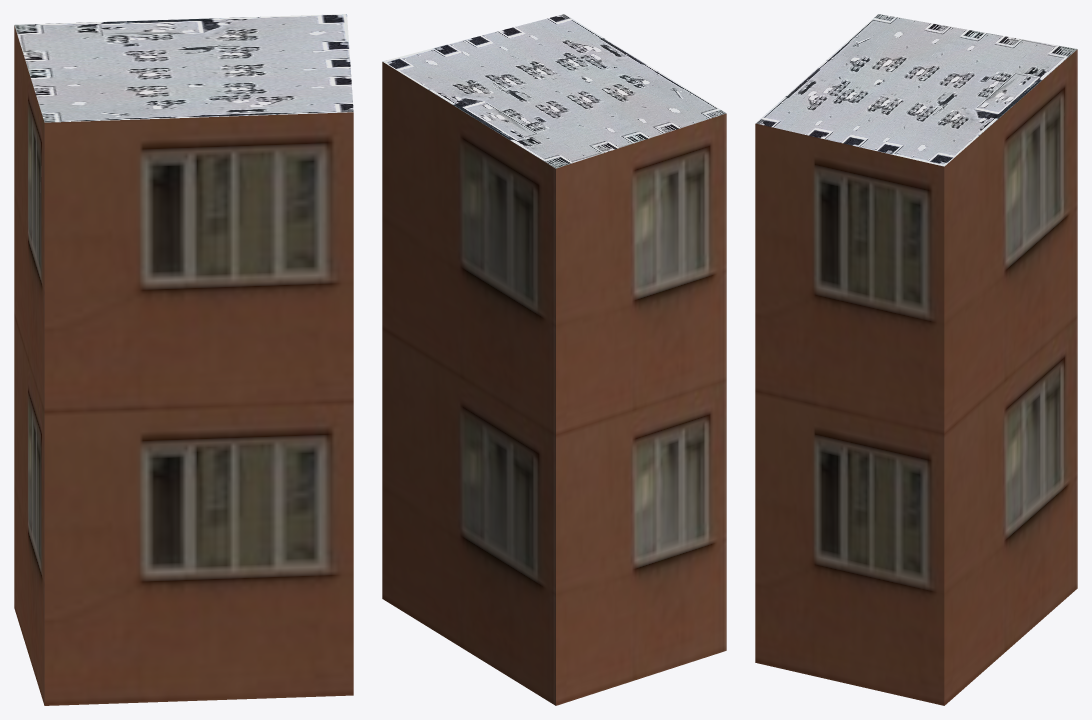
File: ResTex__3099.fbx
3 renders of one model, left to right at view 1: azimuth 30°, elevation 25°; view 2: azimuth 150°, elevation 25°; view 3: azimuth 270°, elevation 25°, orthographic. The views are drawn at different scales.
Parts seen in each view (by area): view 1: CityEngineMaterial_20_m, CityEngineMaterial_4_m; view 2: CityEngineMaterial_20_m, CityEngineMaterial_4_m; view 3: CityEngineMaterial_20_m, CityEngineMaterial_4_m.
Part boxes in pixels (left/top/right/bottom): CityEngineMaterial_20_m: left=14, top=25, right=353, bottom=705; CityEngineMaterial_4_m: left=14, top=14, right=353, bottom=122; CityEngineMaterial_20_m: left=382, top=62, right=726, bottom=705; CityEngineMaterial_4_m: left=382, top=14, right=726, bottom=168; CityEngineMaterial_20_m: left=755, top=49, right=1077, bottom=705; CityEngineMaterial_4_m: left=755, top=14, right=1077, bottom=166.
Bounding box in the file's own units: 3.64 × 6 × 3.25.
2 materials, 2 textured.
